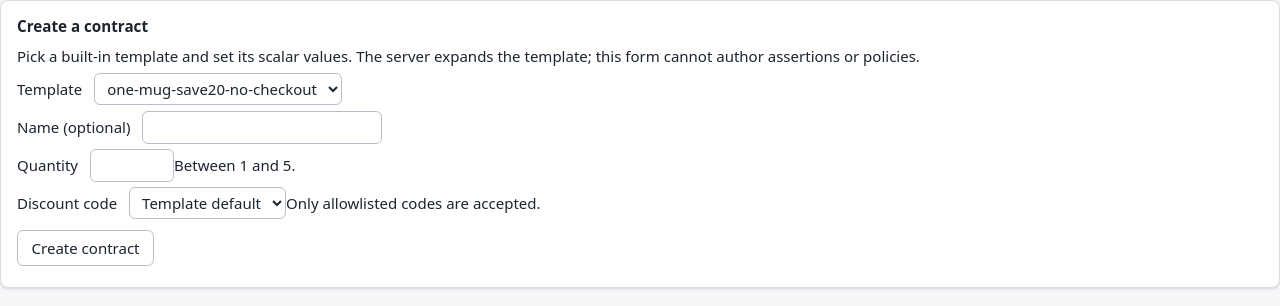
Test: the per-template allowlist › disables the controls a template does not accept
The image size is (1280, 306).
Act — `confirmed_checkout_only` says nothing about quantity.
Select "confirmed-checkout-only" in the dropdown labelled "Template" at (218, 90), box x1=94 y1=74 x2=342 y2=106
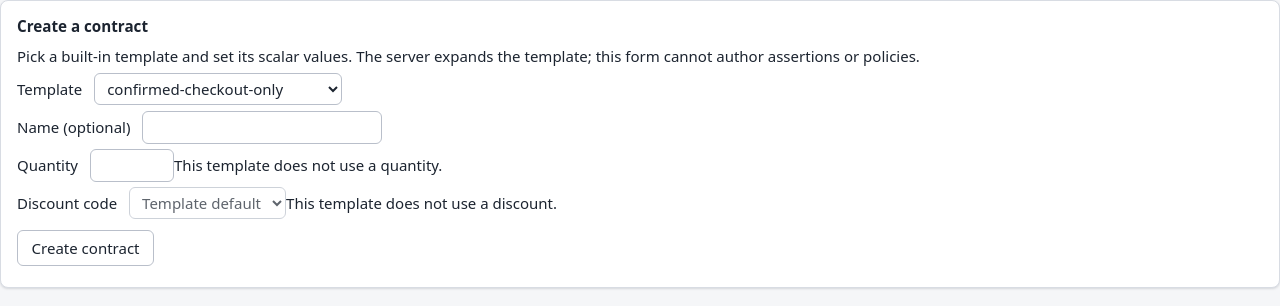
Expected: the number field named "quantity" is disabled, x1=90 y1=149 x2=174 y2=182
Expected: the dropdown named "discount_code" is disabled, x1=129 y1=187 x2=286 y2=219
Expected: the text "This template does not use a quantity." is shown, x1=174 y1=155 x2=442 y2=175
